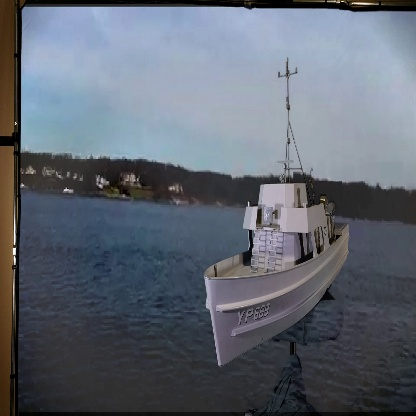YP689: (202, 58, 352, 365)
